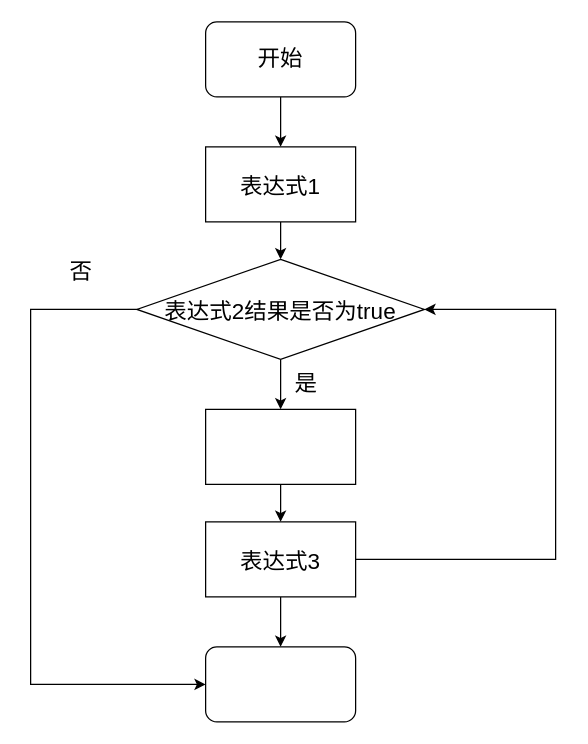
Some shapes in this 588 by 744 pixel diagram are drawn without their labels. Here are the shapes that lost their labels. From the top down, the centre of each, then its label:
At point 280,446: "语句块".
At point 280,684: "结束".
